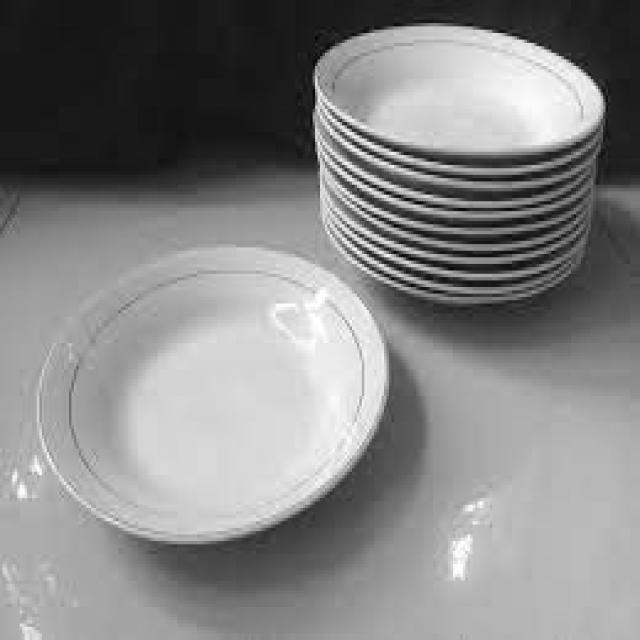dish: (24, 233, 421, 576)
